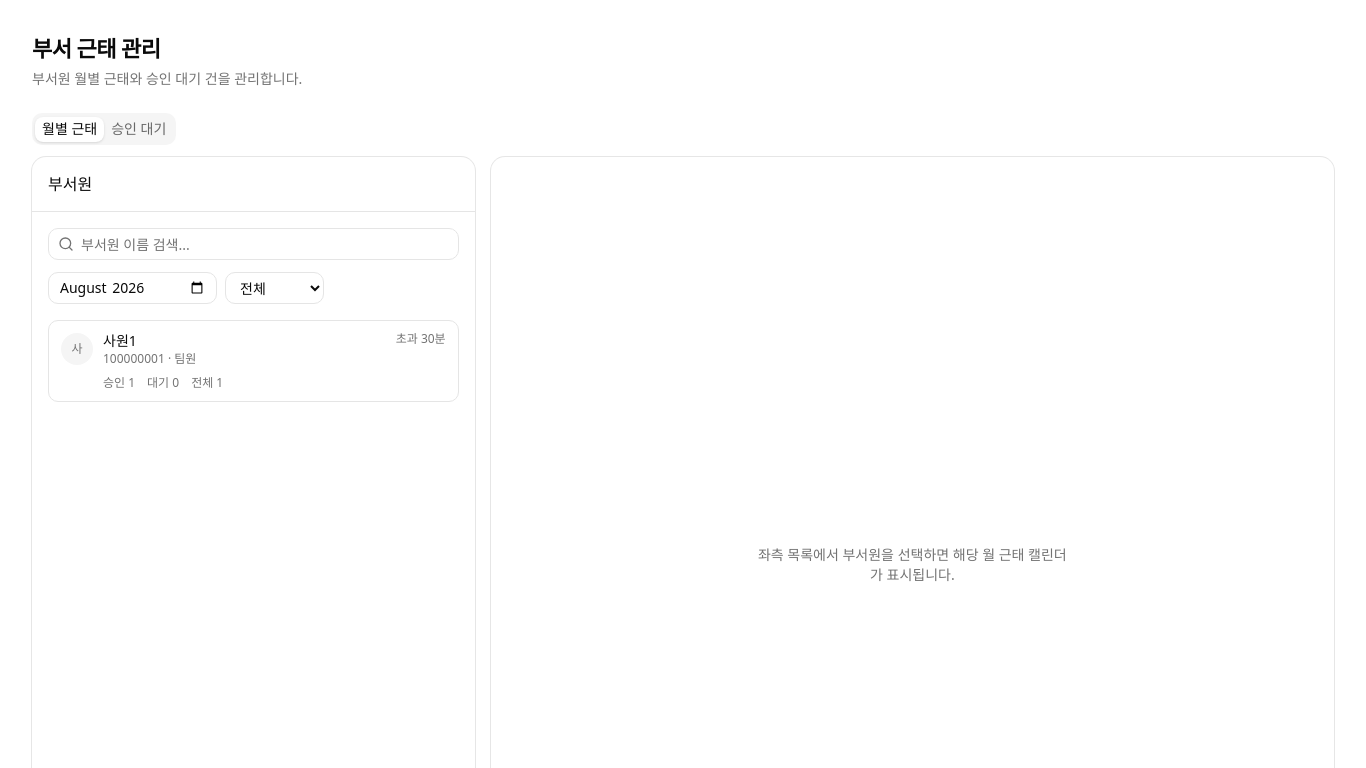
Test: DeptAttendancePage (F305/F306) - 탭①/탭② 상태 분리(usePageState 별도 인스턴스) › 탭②에서 상태 필터를 바꾸면 status가 서버 쿼리에 전달되고 조회 페이지가 0으로 리셋된다
The image size is (1366, 768).
expect the text "사원1" is shown: met, box [103,331,137,350]
Click the tab "승인 대기". click: point(139, 129)
box: [104,116,173,142]
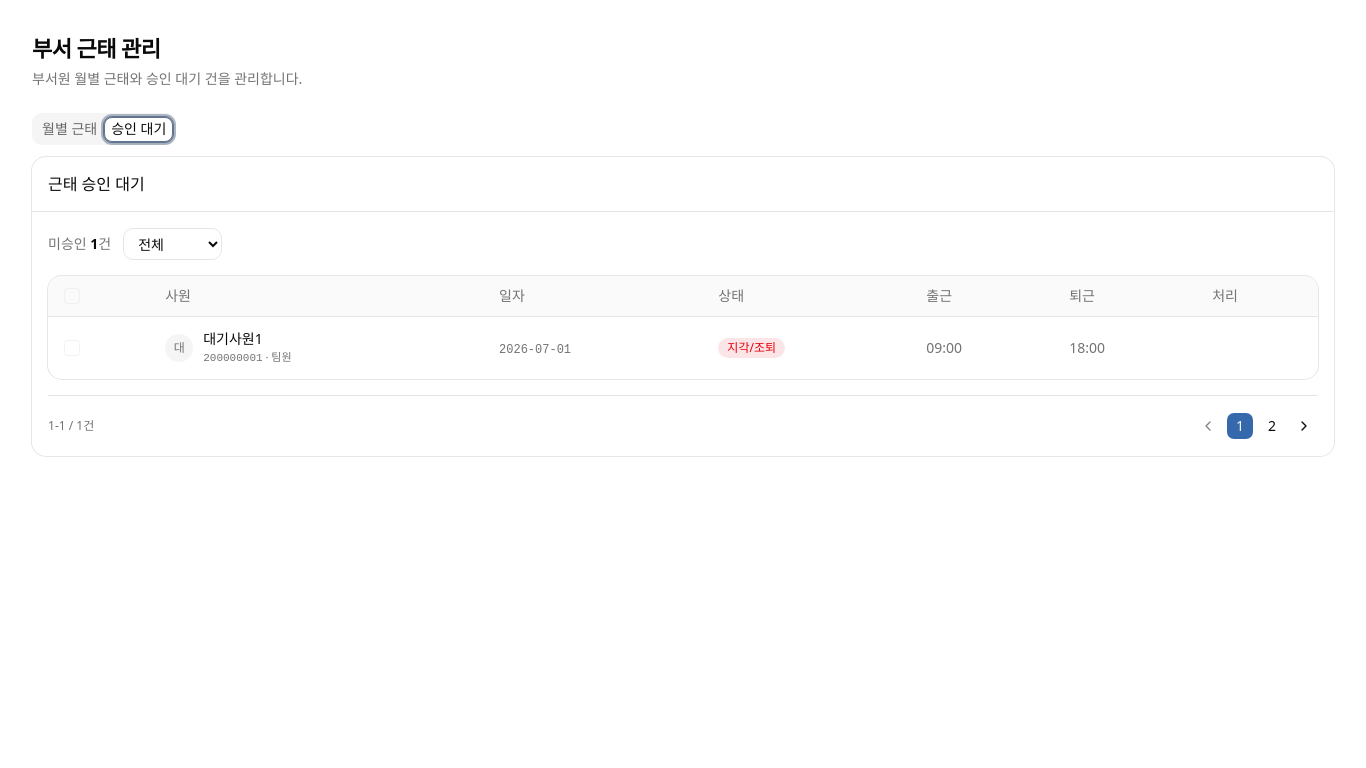
expect the text "대기사원1" is shown: met, box [203,329,263,348]
Click the button named "다음 페이지". click: point(1304, 426)
box: [1290,412,1318,440]
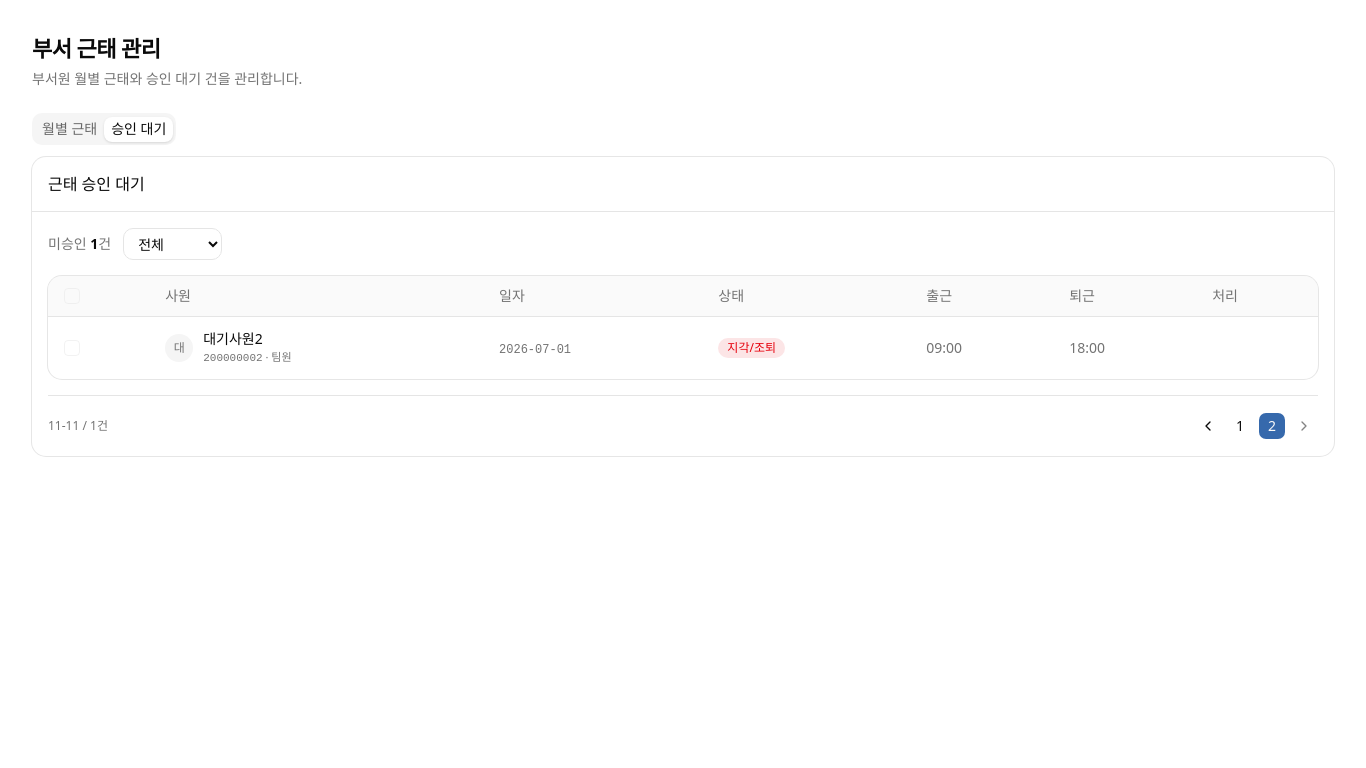
expect the text "대기사원2" is shown: met, box [203,329,263,348]
Select "지각/조퇴" in the dropdown named "근태 상태 필터". click: point(173, 244)
box: [123,228,222,260]
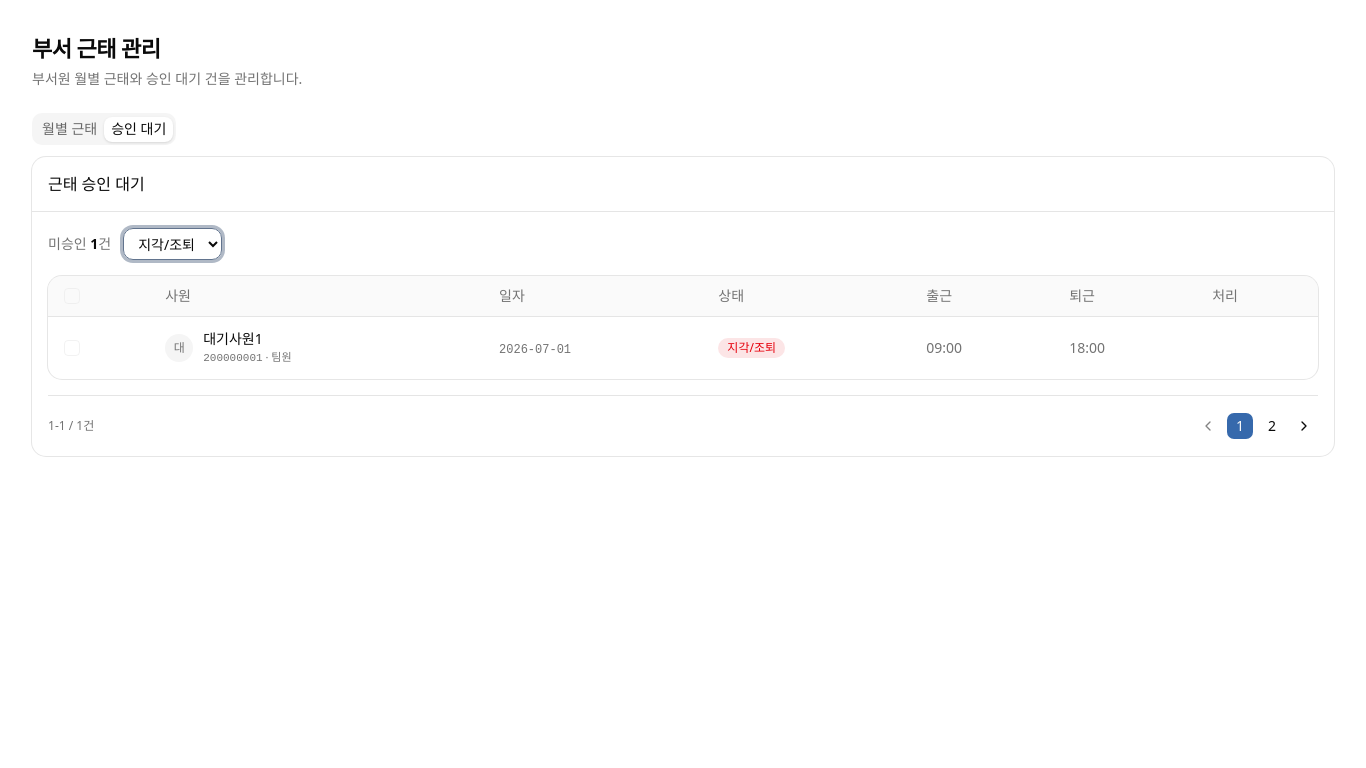
expect the text "대기사원1" is shown: met, box [203,329,263,348]
